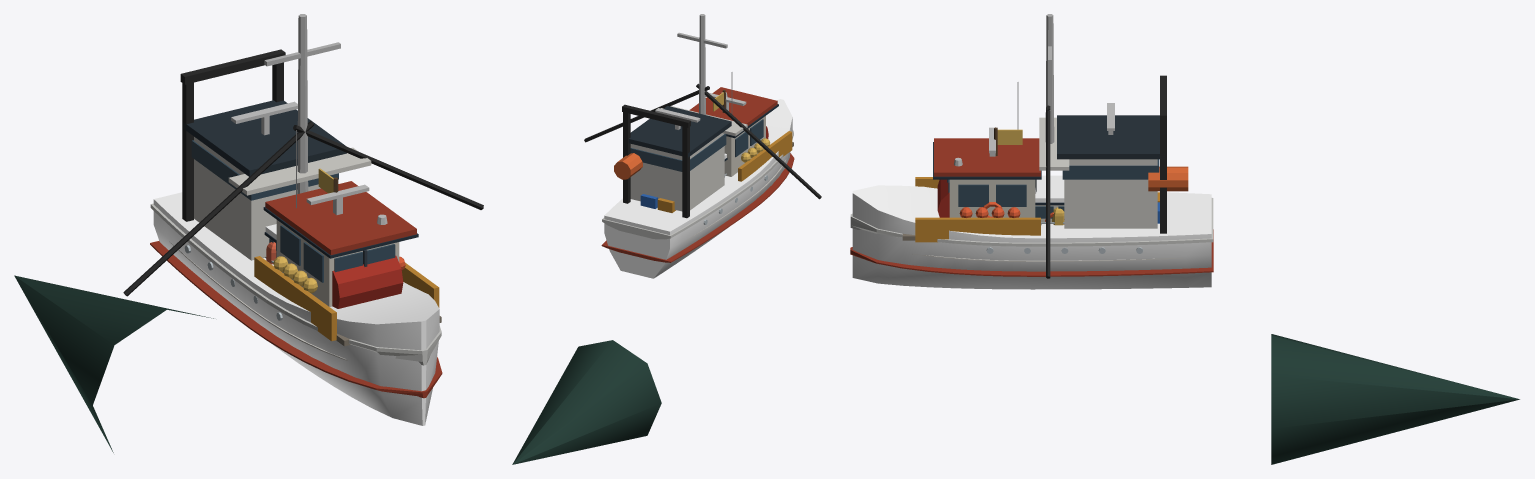
File: fleet.glb
The picture shows the model from 3 angles, left to right: view 1: azimuth 30°, elevation 25°; view 2: azimuth 150°, elevation 25°; view 3: azimuth 270°, elevation 25°; orthographic projection. The views are drawn at different scales.
Visible parts, largest first — view 1: offshore_detail, offshore_hull, trawl_detail, trawl_net, trawl_window, offshore_window; view 2: offshore_detail, trawl_net, offshore_hull, trawl_detail, offshore_window, trawl_window; view 3: offshore_hull, offshore_detail, trawl_net, trawl_detail, trawl_window, offshore_window, line_detail, line_paint.
Part boxes in pixels (x1,y1,x2,y2): offshore_detail: [150, 14, 442, 398]; offshore_hull: [153, 192, 439, 425]; trawl_detail: [123, 49, 483, 360]; trawl_net: [14, 275, 213, 452]; trawl_window: [280, 225, 395, 282]; offshore_window: [191, 140, 338, 200]; offshore_detail: [601, 14, 794, 262]; trawl_net: [512, 340, 661, 464]; offshore_hull: [604, 99, 792, 278]; trawl_detail: [584, 72, 821, 241]; offshore_window: [630, 134, 726, 171]; trawl_window: [735, 119, 763, 157]; offshore_hull: [852, 185, 1211, 289]; offshore_detail: [850, 14, 1213, 276]; trawl_net: [1271, 334, 1519, 464]; trawl_detail: [912, 75, 1182, 278]; trawl_window: [948, 179, 1026, 206]; offshore_window: [1062, 159, 1159, 179]; line_detail: [994, 127, 1064, 224]; line_paint: [1035, 175, 1064, 202].
Size of the model in its own units: 6.79 by 9.9 by 13.44.
